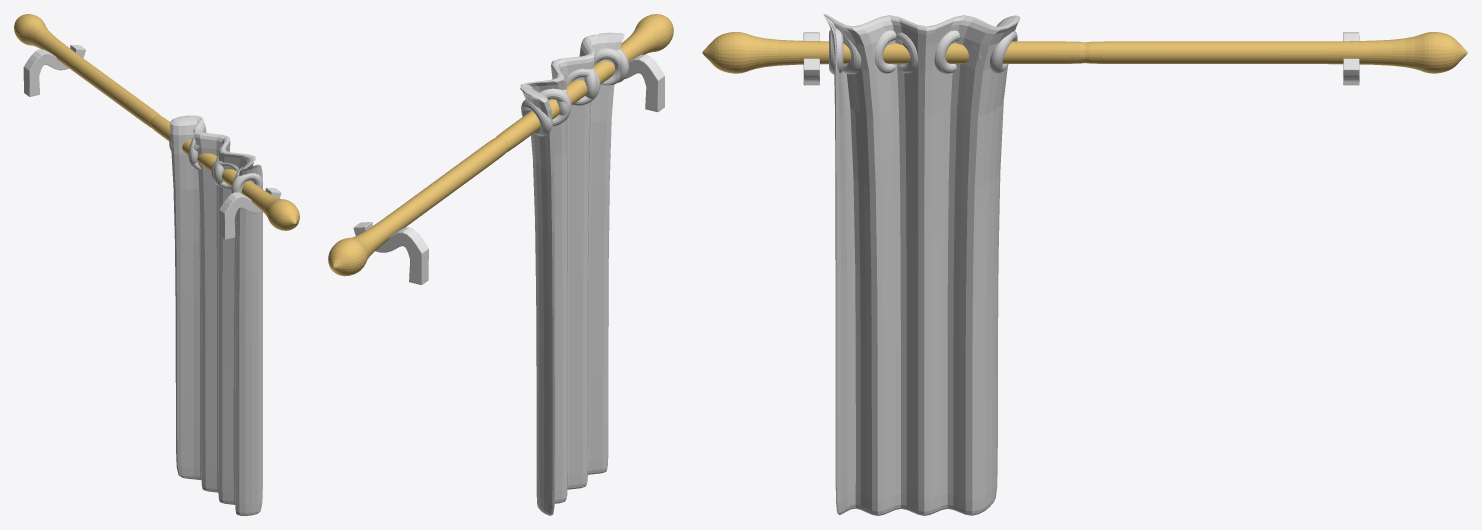
File: Curtain2.fbx
The picture shows the model from 3 angles, left to right: view 1: azimuth 30°, elevation 25°; view 2: azimuth 150°, elevation 25°; view 3: azimuth 270°, elevation 25°; orthographic projection. The views are drawn at different scales.
Visible parts, largest first — view 1: Curtain_holder.001; view 2: Curtain_holder.001; view 3: Curtain_holder.001.
Part boxes in pixels (box(x1,y1,x2,y2)): Curtain_holder.001: box(14, 14, 299, 515); Curtain_holder.001: box(328, 14, 673, 515); Curtain_holder.001: box(702, 14, 1467, 515).
Bounding box in the file's own units: 25.05 × 150 × 211.
